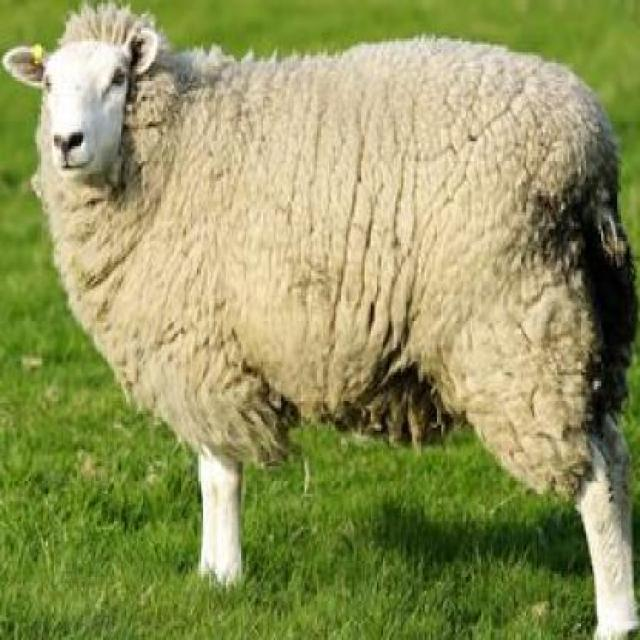Sheep: (0, 3, 638, 637)
